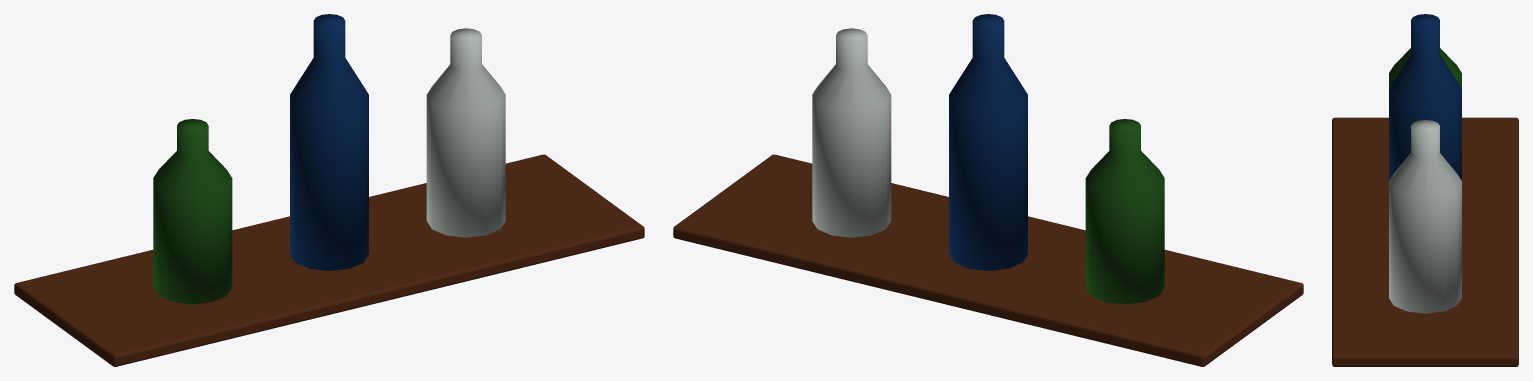
Rendered from BottleTray.fbx.
The picture shows the model from 3 angles, left to right: view 1: azimuth 30°, elevation 25°; view 2: azimuth 150°, elevation 25°; view 3: azimuth 270°, elevation 25°; orthographic projection. The views are drawn at different scales.
Parts seen in each view (by area): view 1: BottleTray; view 2: BottleTray; view 3: BottleTray.
Boxes of the visible parts, bbox=[...] form: BottleTray: bbox=[14, 14, 644, 366]; BottleTray: bbox=[673, 14, 1303, 366]; BottleTray: bbox=[1332, 14, 1518, 366].
Size of the model in its own units: 70 by 23 by 30.95.
